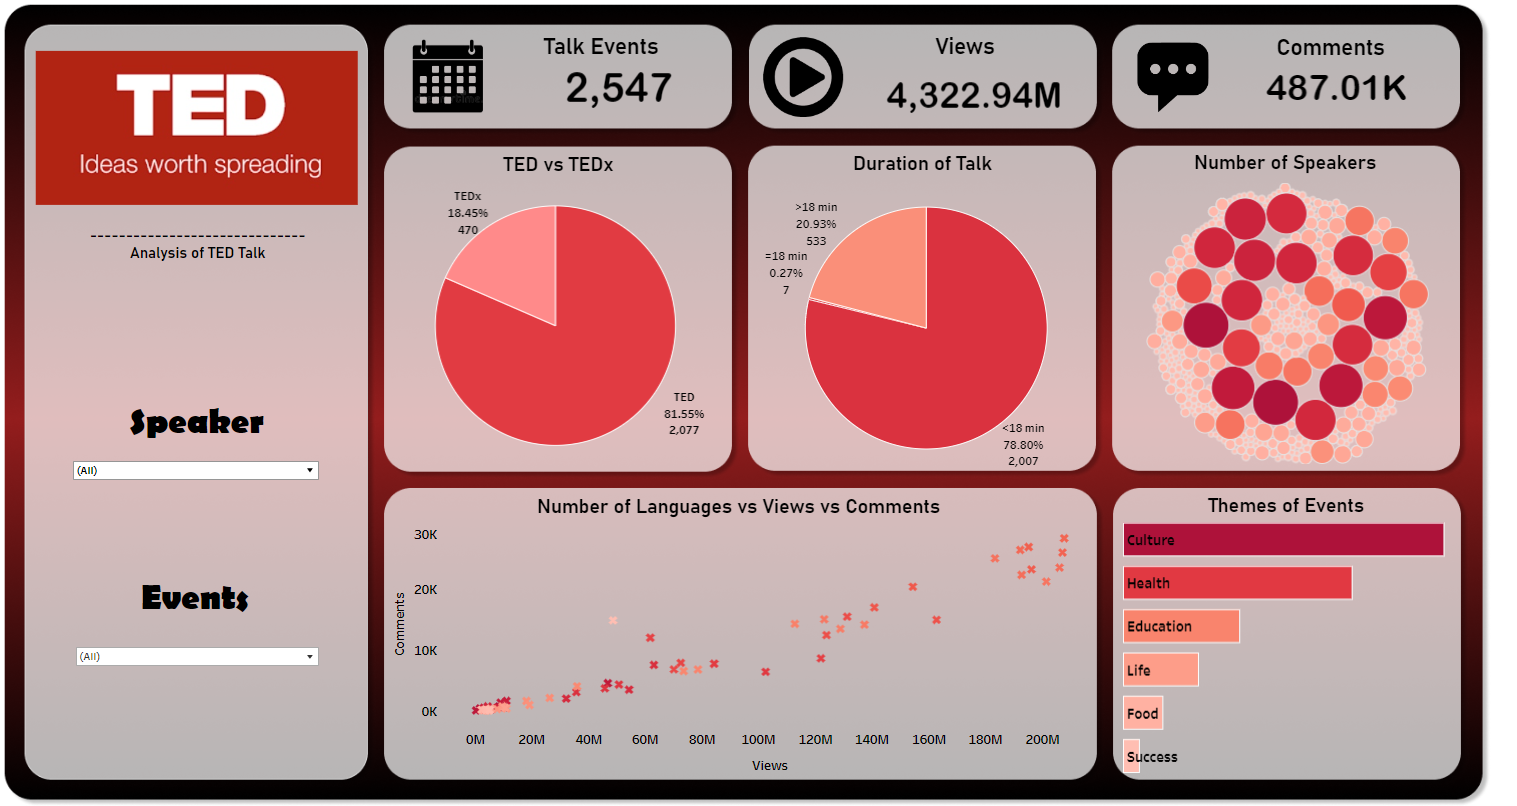

The page's visual inventory and layout, read from the dashboard file:
{"tool":"tableau","page":{"name":"Dashboard 1","canvas":[1000,1000],"units":"permille","ordinal":0},"visuals":[{"type":"image","param":"Image/logo2.png","box":[4.8,9.3,109.2,212.6]},{"type":"text","box":[114,9.3,149.7,110.3]},{"type":"text","box":[263.7,9.3,189.5,212.5]},{"type":"text","box":[453.2,9.3,445.4,245.3]},{"type":"filter","title":"duration pie","param":"[federated.15turb90761hbp143ypmz0cv596f].[none:main_speaker:nk]","box":[898.6,9.3,96.6,70.9]},{"type":"filter","title":"event and speaker count","param":"[federated.15turb90761hbp143ypmz0cv596f].[none:event:nk]","box":[898.6,80.1,96.6,67.4]},{"type":"worksheet","title":"duration pie","mark":"Pie","box":[114,119.6,149.7,314.8]},{"type":"legend","title":"event and speaker count","param":"[federated.15turb90761hbp143ypmz0cv596f].[cnt:num_speaker:qk]","box":[898.6,147.5,96.6,55.8]},{"type":"filter","title":"lang vs vie and comments","param":"[federated.15turb90761hbp143ypmz0cv596f].[none:languages:ok]","box":[898.6,203.2,96.6,74.3]},{"type":"text","box":[4.8,221.8,109.2,212.5]},{"type":"worksheet","title":"ted vs tedx","mark":"Pie","box":[263.7,221.8,189.5,212.6]},{"type":"worksheet","title":"event and speaker count","mark":"Circle","box":[453.2,254.6,445.4,245.3]},{"type":"text","box":[4.8,434.4,448.4,278.2]},{"type":"text","box":[453.2,500,445.4,245.4]},{"type":"worksheet","title":"lang vs vie and comments","mark":"Shape","rows":["comments"],"cols":["views"],"box":[4.8,712.6,448.4,278.2]},{"type":"worksheet","title":"themes n events ","mark":"Automatic","rows":["Calculation_1305762441628286977"],"cols":["event"],"box":[453.2,745.4,445.4,245.3]}]}

Visuals, with their boxes on the dashboard's canvas, which has no fixed pixel size, in thousandths of its width and height (x1, y1, x2, y2). These are canvas units, not pixel positions in the 1517x806 screenshot, which may show the page scaled, cropped or inside an application window:
image: 5, 9, 114, 222
text: 114, 9, 264, 120
text: 264, 9, 453, 222
text: 453, 9, 899, 255
"duration pie" filter: 899, 9, 995, 80
"event and speaker count" filter: 899, 80, 995, 148
"duration pie" worksheet (Pie marks): 114, 120, 264, 434
"event and speaker count" legend: 899, 148, 995, 203
"lang vs vie and comments" filter: 899, 203, 995, 278
text: 5, 222, 114, 434
"ted vs tedx" worksheet (Pie marks): 264, 222, 453, 434
"event and speaker count" worksheet (Circle marks): 453, 255, 899, 500
text: 5, 434, 453, 713
text: 453, 500, 899, 745
"lang vs vie and comments" worksheet (Shape marks): 5, 713, 453, 991
"themes n events " worksheet: 453, 745, 899, 991
